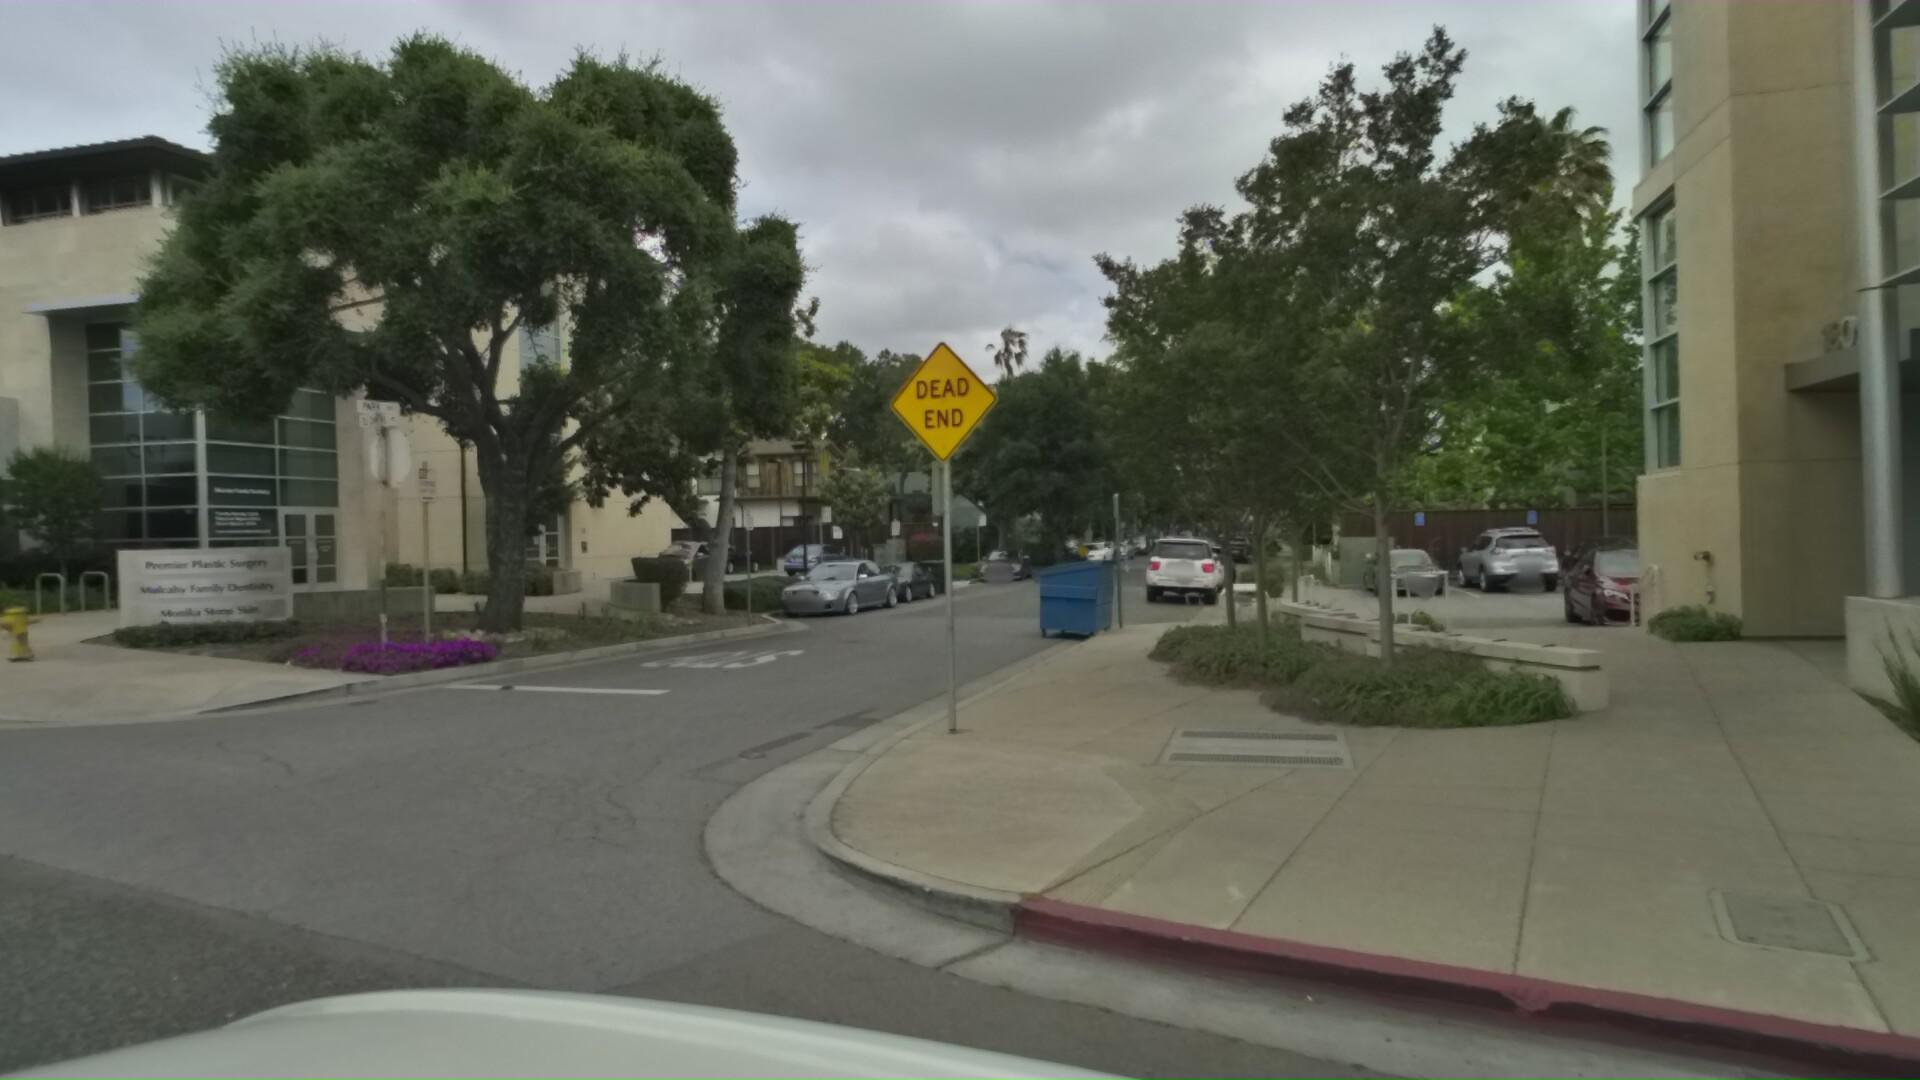bicycle: (127, 559, 196, 609)
car: (1575, 526, 1776, 641), (781, 549, 920, 620), (1464, 516, 1582, 592), (1156, 524, 1240, 603), (1377, 535, 1466, 596), (655, 531, 757, 583), (862, 554, 952, 603), (785, 534, 860, 575), (1182, 535, 1240, 587), (984, 538, 1050, 580), (1188, 535, 1242, 582), (1077, 533, 1120, 563), (1225, 531, 1255, 556)
